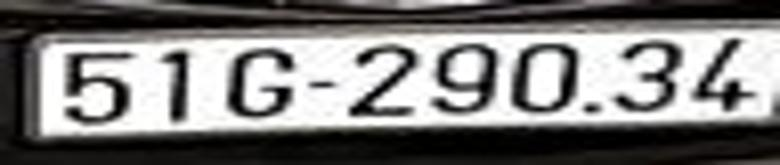-: (304, 77, 342, 98)
.: (580, 92, 609, 119)
0: (511, 42, 584, 118)
1: (154, 44, 192, 126)
2: (347, 45, 417, 120)
3: (615, 36, 685, 112)
4: (692, 36, 765, 113)
5: (57, 48, 138, 124)
9: (438, 41, 501, 117)
G: (225, 47, 293, 129)
